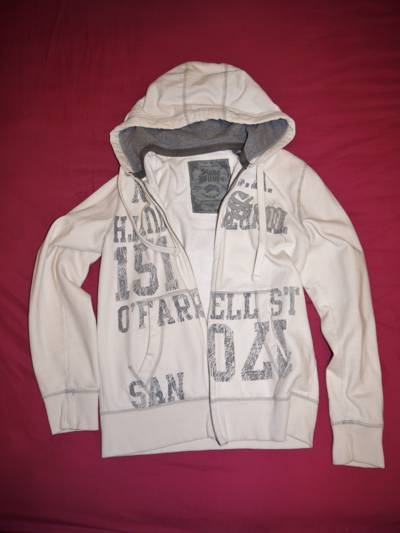Hoodie: (15, 65, 394, 499)
